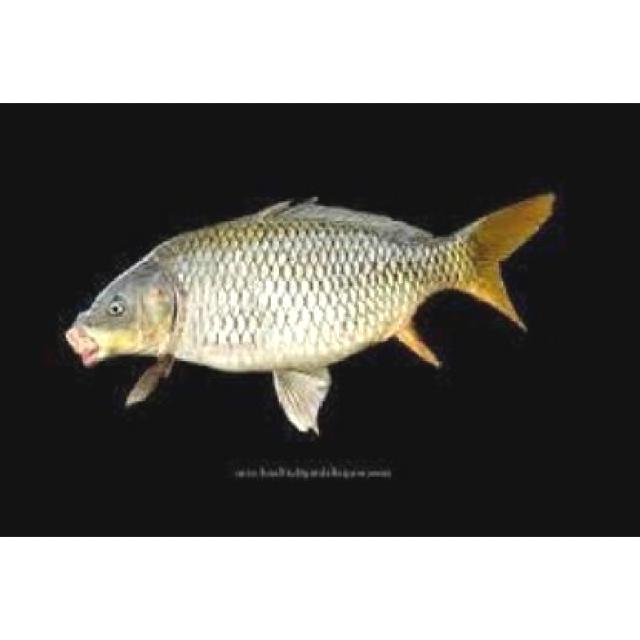ikan-mas: (66, 188, 552, 408)
